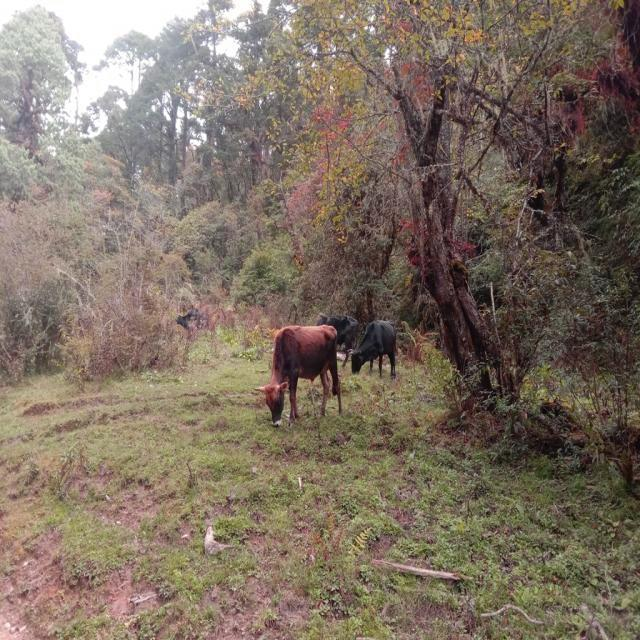cow: (258, 325, 342, 426), (351, 320, 395, 379)
